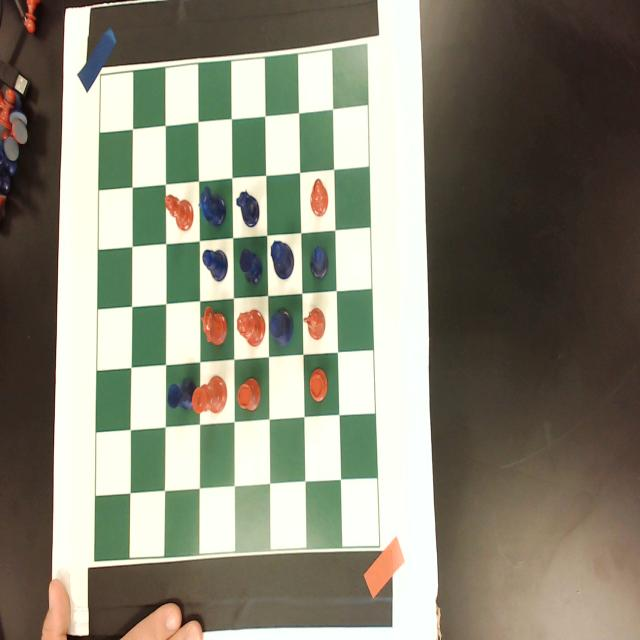B: (201, 246, 228, 286), (310, 244, 329, 281)
K: (268, 305, 294, 348)
N: (198, 184, 226, 232), (236, 188, 260, 230)
Q: (270, 238, 295, 281)
R: (167, 374, 196, 413), (239, 246, 264, 287)
b: (163, 190, 194, 232), (308, 176, 329, 218)
k: (191, 372, 227, 418)
n: (200, 305, 228, 348), (302, 305, 327, 343)
q: (235, 307, 266, 348)
r: (237, 374, 261, 414), (309, 366, 328, 403)
